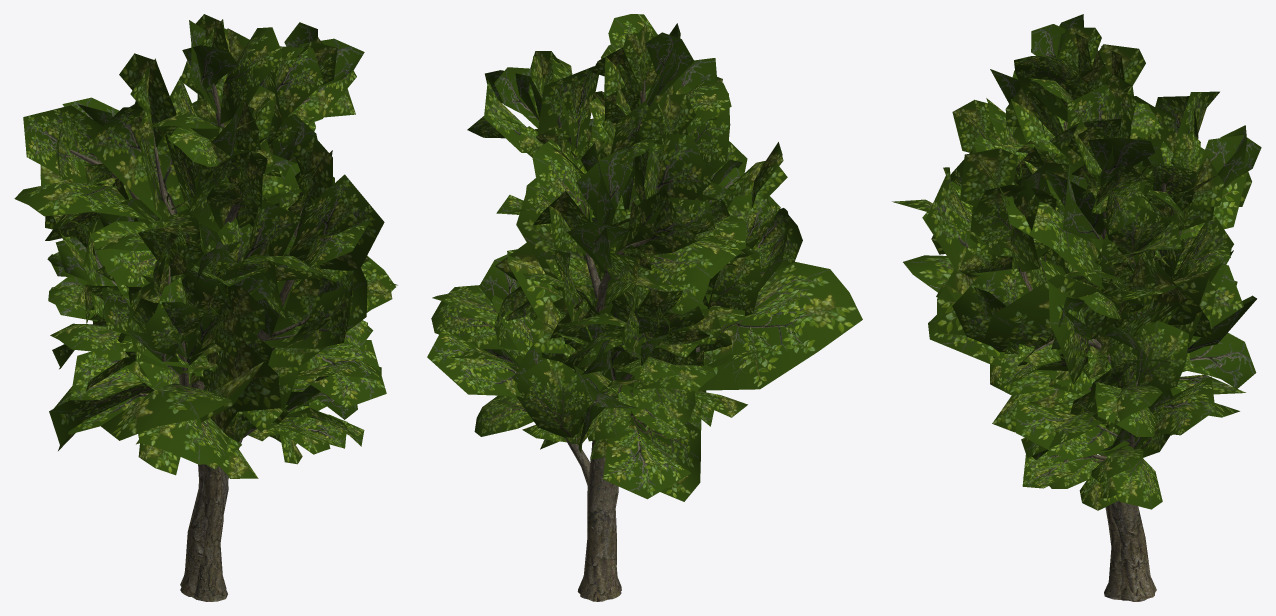
The model's file is BSwap_LPTrees_01.glb.
3 renders of one model, left to right at view 1: azimuth 30°, elevation 25°; view 2: azimuth 150°, elevation 25°; view 3: azimuth 270°, elevation 25°, orthographic. The views are drawn at different scales.
Visible parts, largest first — view 1: Foliage_Trees_02, Foliage_Trees_03, Foliage_Trees_01; view 2: Foliage_Trees_03, Foliage_Trees_02, Foliage_Trees_01; view 3: Foliage_Trees_03, Foliage_Trees_02, Foliage_Trees_01.
Boxes of the visible parts, x1=… form: Foliage_Trees_02: x1=45, y1=53, x2=384, y2=601; Foliage_Trees_03: x1=14, y1=14, x2=392, y2=596; Foliage_Trees_01: x1=47, y1=198, x2=397, y2=479; Foliage_Trees_03: x1=467, y1=14, x2=747, y2=601; Foliage_Trees_02: x1=495, y1=58, x2=862, y2=590; Foliage_Trees_01: x1=427, y1=182, x2=753, y2=501; Foliage_Trees_03: x1=922, y1=14, x2=1261, y2=601; Foliage_Trees_02: x1=892, y1=44, x2=1237, y2=599; Foliage_Trees_01: x1=1015, y1=249, x2=1256, y2=510.
Size of the model in its own units: 396 by 618 by 370.
Materials: 2 (2 with a texture image).
